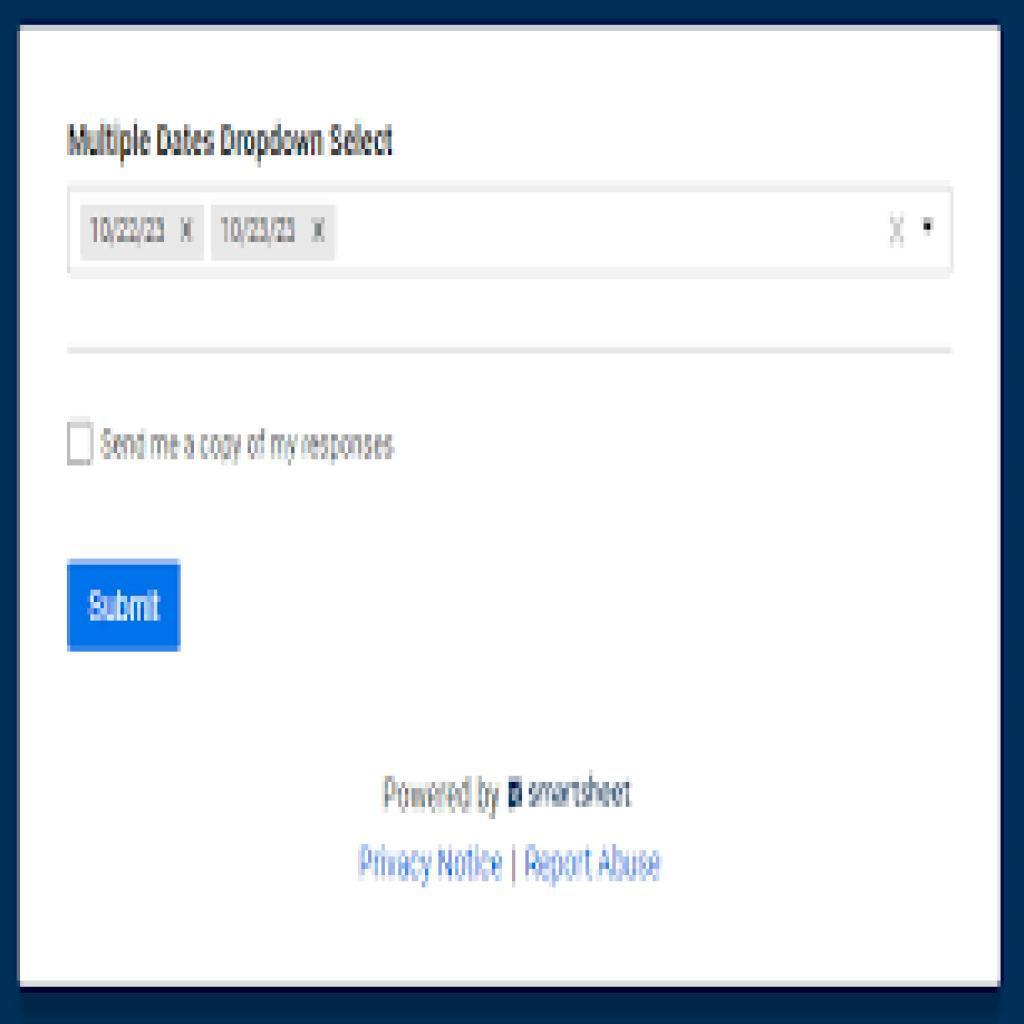button: (67, 558, 182, 654)
checkbox: (66, 422, 94, 465)
dropdown: (71, 191, 956, 275)
